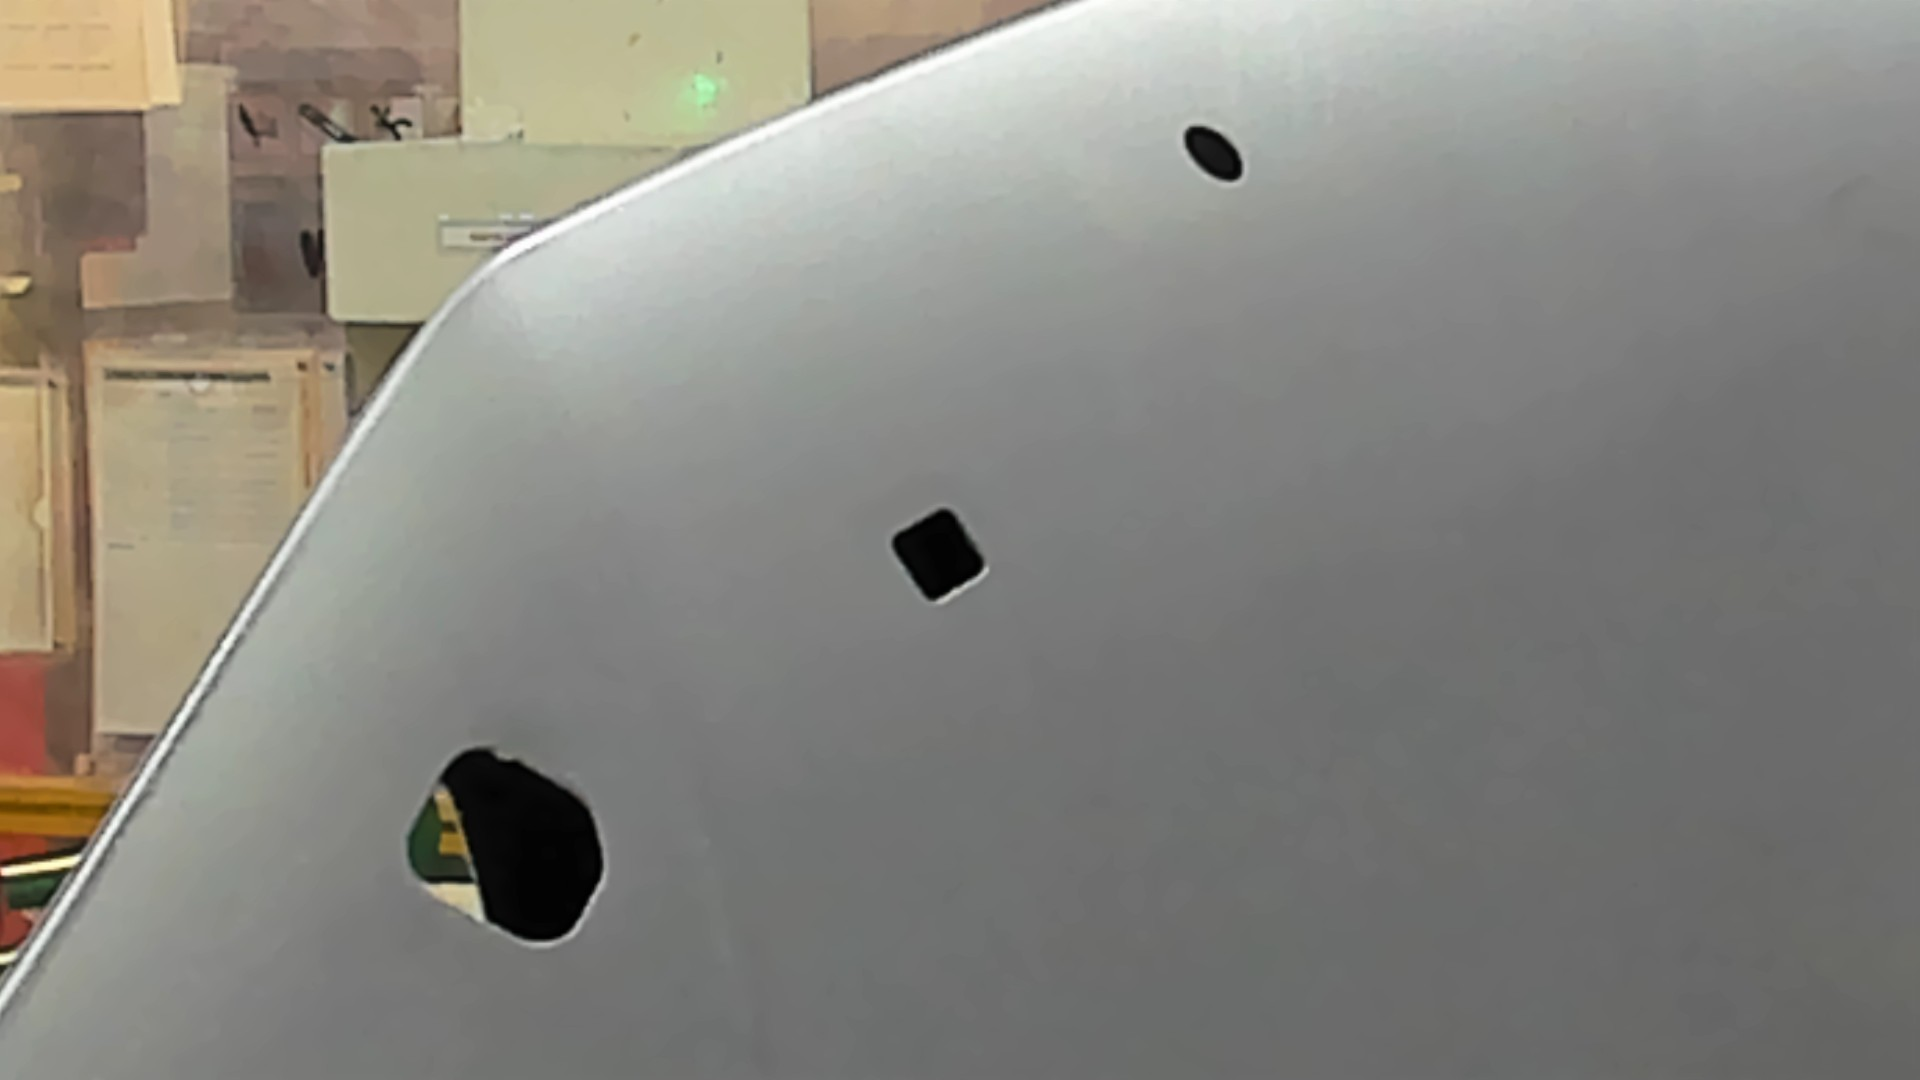chico: (1164, 115, 1261, 191)
grande: (380, 737, 638, 963)
mediano: (868, 496, 1019, 609)
